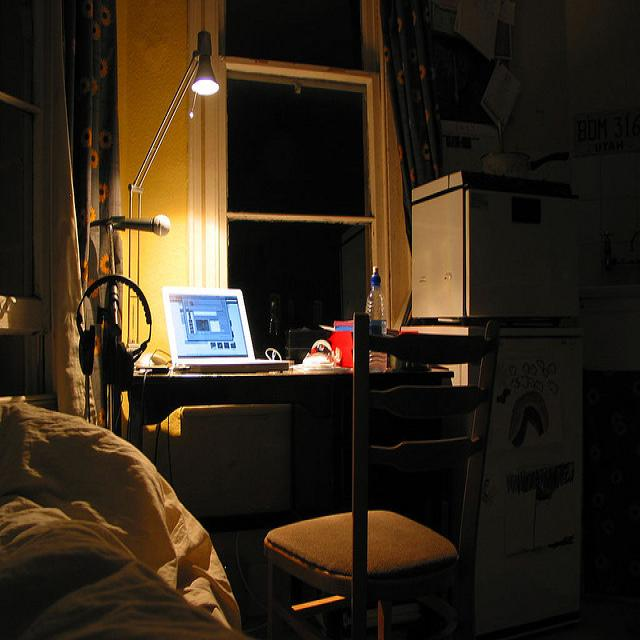Bottle: (362, 239, 394, 381)
Table: (126, 341, 518, 640)
chair: (334, 308, 517, 640)
